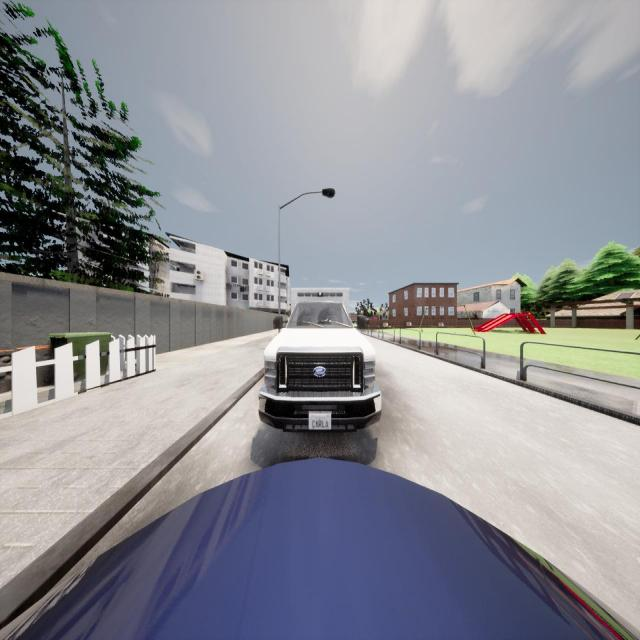Vehicle: (1, 459, 640, 640), (257, 287, 384, 435)
